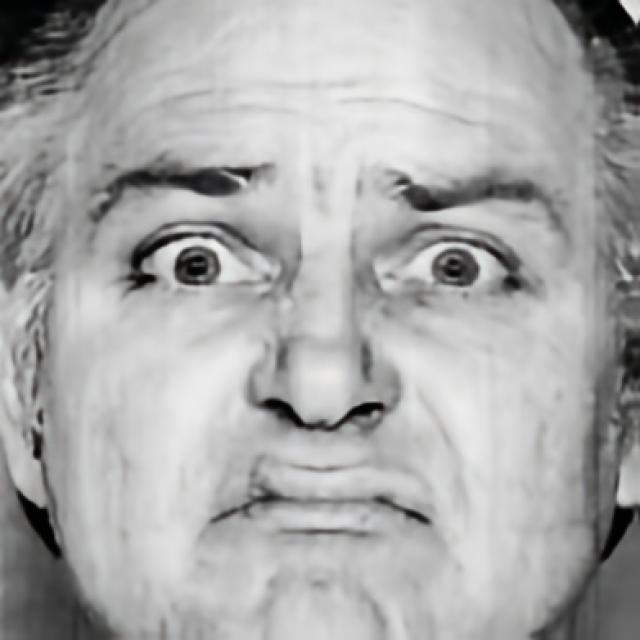disgust: (46, 1, 616, 640)
